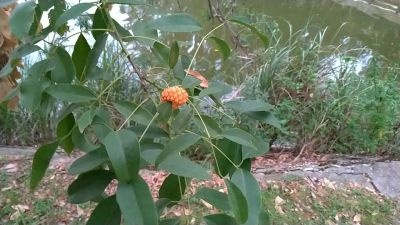eggs: (158, 83, 187, 107)
